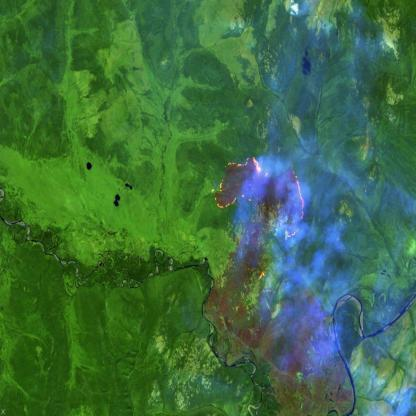fire: (208, 148, 308, 243), (254, 262, 270, 285)
